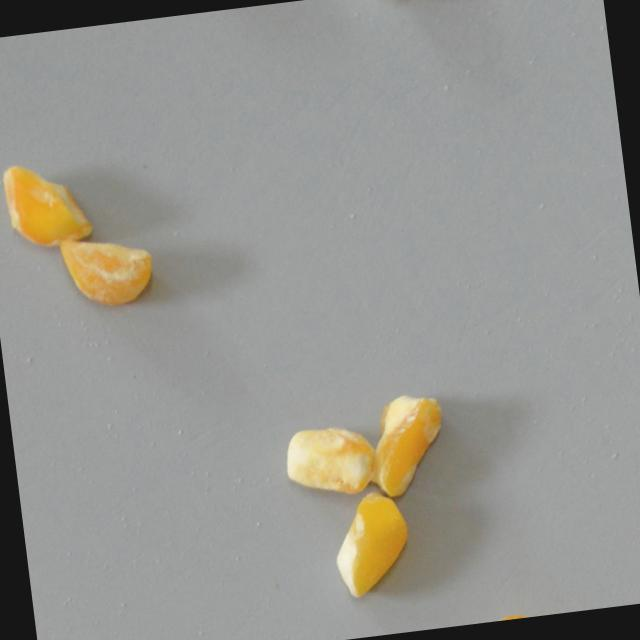dañado: (324, 481, 420, 606), (356, 386, 455, 502), (0, 147, 100, 256), (53, 222, 167, 314), (276, 414, 381, 504), (469, 597, 606, 624)
